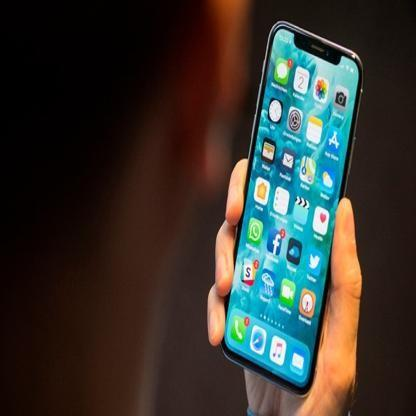not trash: (220, 18, 362, 398)
